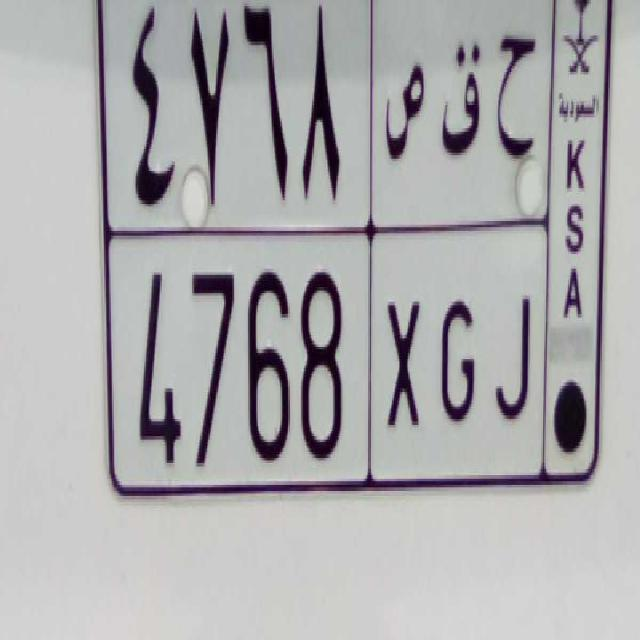license_plate: (104, 224, 546, 495)
